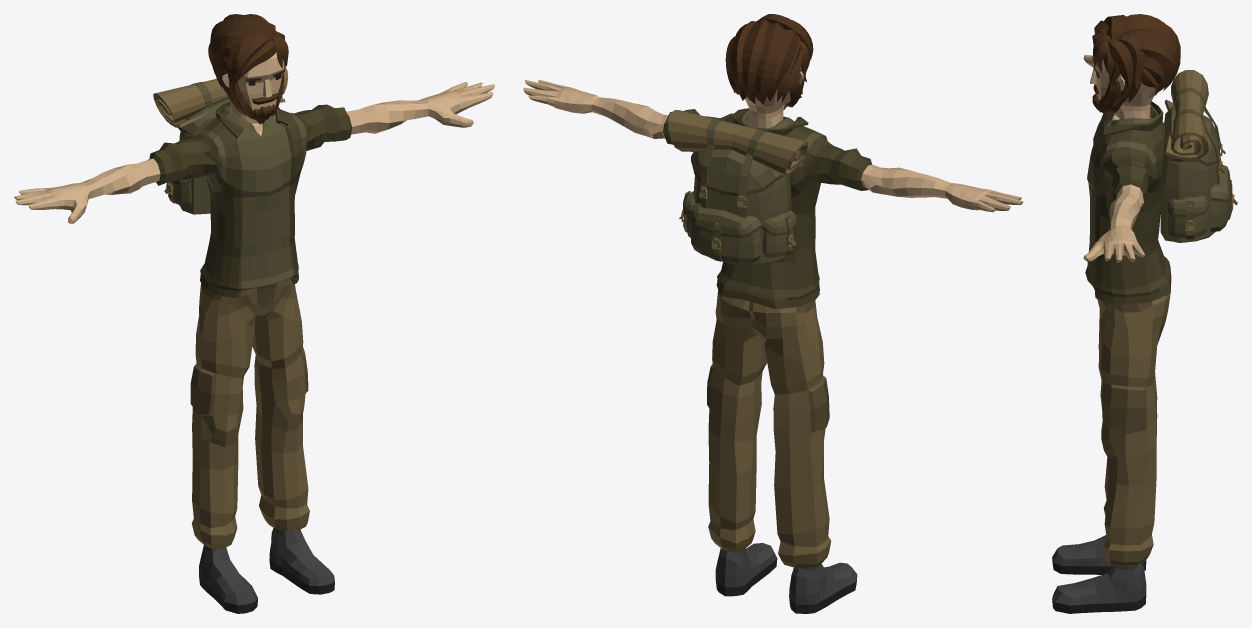
The model's file is Adventurer_Base.fbx.
3 views of the same model, side by side, from view 1: azimuth 30°, elevation 25°; view 2: azimuth 150°, elevation 25°; view 3: azimuth 270°, elevation 25° (orthographic). The views are drawn at different scales.
Parts seen in each view (by area): view 1: Adventurer_Body, Adventurer_Legs, Adventurer_Head, Adventurer_Feet, Backpack; view 2: Adventurer_Legs, Adventurer_Body, Backpack, Adventurer_Head, Adventurer_Feet; view 3: Adventurer_Legs, Adventurer_Body, Backpack, Adventurer_Head, Adventurer_Feet.
Part boxes in pixels (bbox=[...]): Adventurer_Body: bbox=[14, 82, 494, 297]; Adventurer_Legs: bbox=[190, 278, 309, 549]; Adventurer_Head: bbox=[208, 14, 288, 124]; Adventurer_Feet: bbox=[199, 528, 334, 613]; Backpack: bbox=[153, 67, 288, 214]; Adventurer_Legs: bbox=[707, 290, 831, 568]; Adventurer_Body: bbox=[523, 79, 1023, 309]; Backpack: bbox=[668, 110, 808, 265]; Adventurer_Head: bbox=[725, 14, 813, 128]; Adventurer_Feet: bbox=[715, 543, 857, 613]; Adventurer_Legs: bbox=[1097, 289, 1170, 565]; Adventurer_Body: bbox=[1083, 54, 1171, 304]; Backpack: bbox=[1160, 70, 1237, 242]; Adventurer_Head: bbox=[1090, 14, 1180, 119]; Adventurer_Feet: bbox=[1052, 535, 1146, 613].
Size of the model in its own units: 168 by 186 by 54.97.
